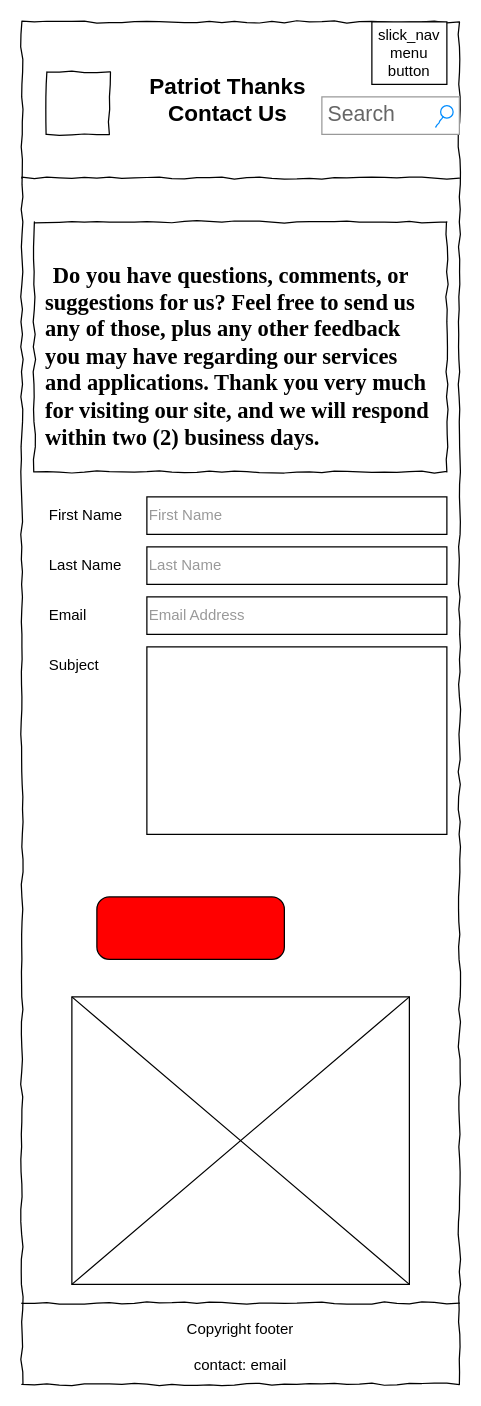
The diagram is 481 pixels wide and 1406 high, and some of its shapes have lost their labels. Each missing label, with the centre of its shape:
LOGO: point 77,102
Submit: point 190,927
Write Anything: point 296,740
